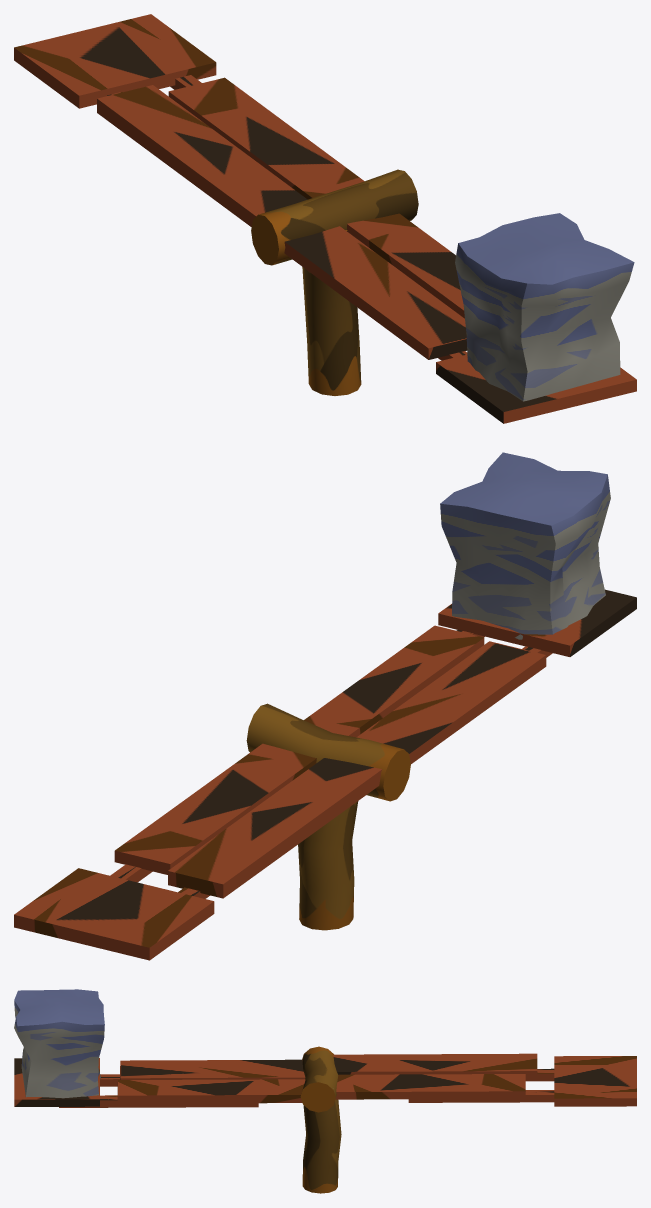
File: GRP_PRMC_Trampolin.FBX
3 views of the same model, one above another, from view 1: azimuth 30°, elevation 25°; view 2: azimuth 150°, elevation 25°; view 3: azimuth 270°, elevation 25° (orthographic). The views are drawn at different scales.
Parts seen in each view (by area): view 1: PRMC_Tranpolin_Tablon, PRMC_Tranpolin_Piedra, PRMC_Tranpolin_Palo; view 2: PRMC_Tranpolin_Tablon, PRMC_Tranpolin_Piedra, PRMC_Tranpolin_Palo; view 3: PRMC_Tranpolin_Tablon, PRMC_Tranpolin_Piedra, PRMC_Tranpolin_Palo.
Part boxes in pixels (left/top/right/bottom): PRMC_Tranpolin_Tablon: left=14, top=14, right=636, bottom=423; PRMC_Tranpolin_Piedra: left=455, top=213, right=634, bottom=401; PRMC_Tranpolin_Palo: left=302, top=230, right=361, bottom=395; PRMC_Tranpolin_Tablon: left=14, top=589, right=636, bottom=960; PRMC_Tranpolin_Piedra: left=440, top=452, right=610, bottom=639; PRMC_Tranpolin_Palo: left=298, top=801, right=358, bottom=930; PRMC_Tranpolin_Tablon: left=14, top=1046, right=636, bottom=1112; PRMC_Tranpolin_Piedra: left=14, top=989, right=104, bottom=1098; PRMC_Tranpolin_Palo: left=302, top=1099, right=341, bottom=1193.
Size of the model in its own units: 1.25 by 2.43 by 7.56.
